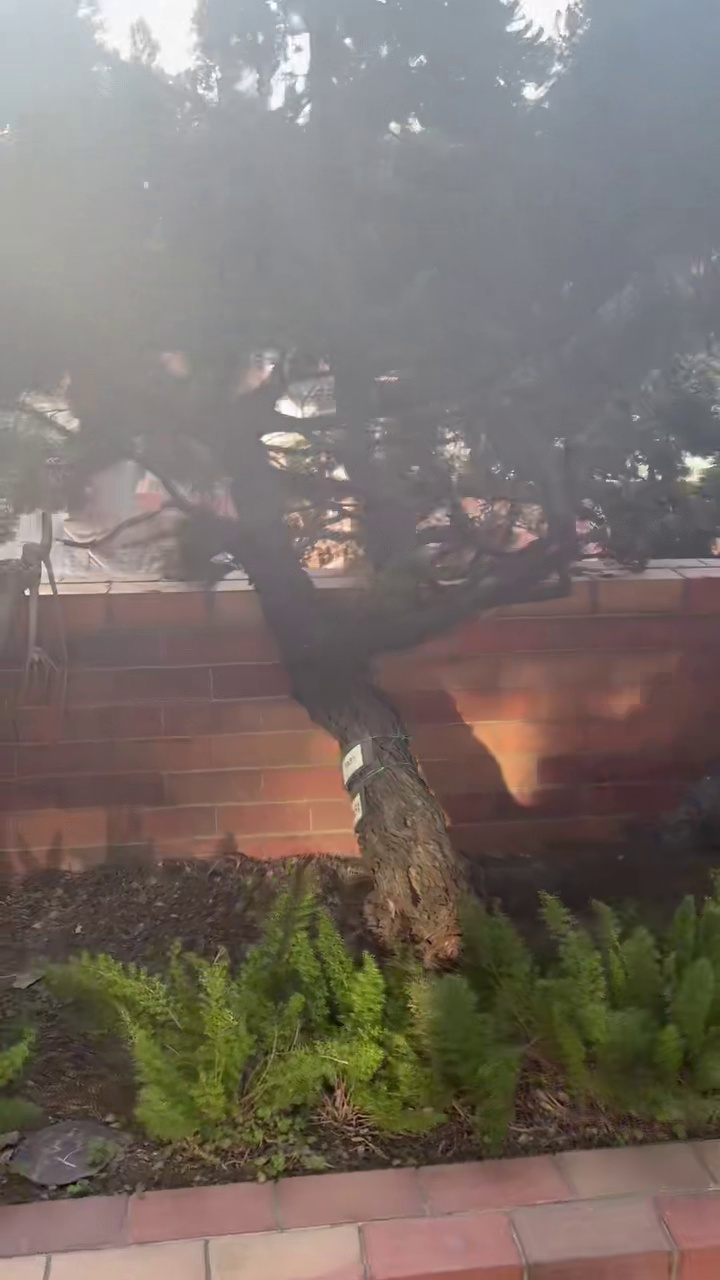Juniperus chinensis: (0, 0, 719, 961)
